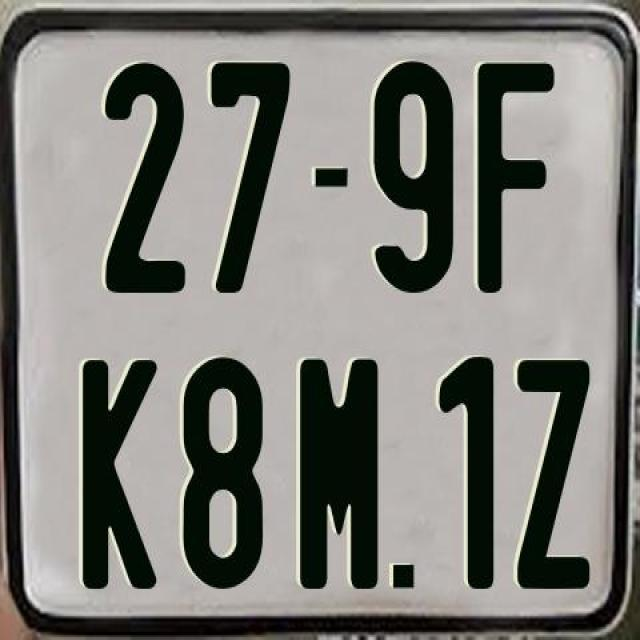1: (434, 357, 490, 597)
2: (102, 61, 186, 292)
7: (210, 59, 298, 290)
8: (181, 355, 267, 592)
9: (372, 58, 457, 298)
F: (478, 63, 558, 294)
K: (80, 358, 158, 588)
M: (298, 358, 382, 590)
Z: (516, 355, 588, 584)
